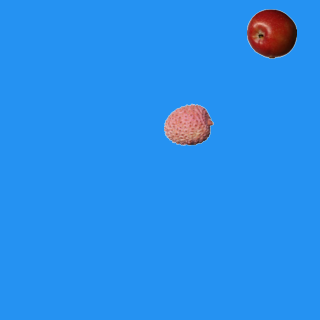Apple Braeburn: (246, 8, 296, 58)
Lychee: (163, 99, 213, 149)
